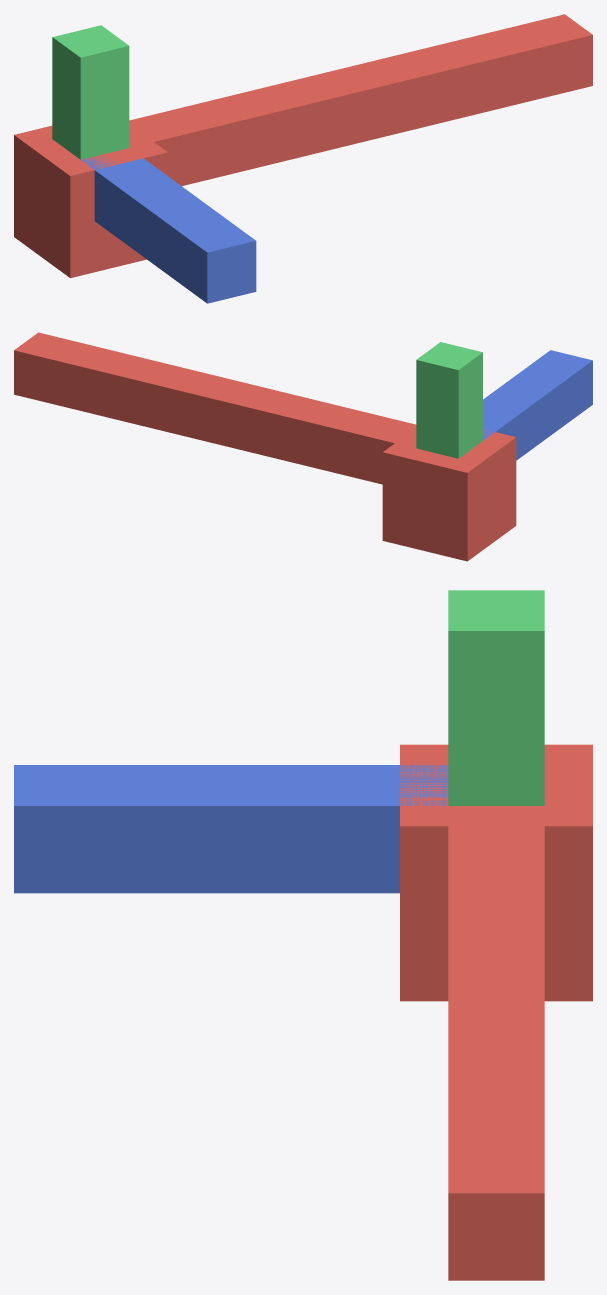
File: probe-axis-marker.glb
3 renders of one model, top to bottom at view 1: azimuth 30°, elevation 25°; view 2: azimuth 150°, elevation 25°; view 3: azimuth 270°, elevation 25°, orthographic. The views are drawn at different scales.
Visible parts, largest first — view 1: AxisPlusX_RED, AxisPlusZ_BLUE, AxisHub, AxisPlusY_GREEN; view 2: AxisPlusX_RED, AxisHub, AxisPlusZ_BLUE, AxisPlusY_GREEN; view 3: AxisPlusZ_BLUE, AxisPlusX_RED, AxisHub, AxisPlusY_GREEN.
Boxes of the visible parts, x1,y1,x2,y2 form: AxisPlusX_RED: (129,14,592,185); AxisPlusZ_BLUE: (81,156,256,303); AxisHub: (14,124,167,277); AxisPlusY_GREEN: (52,25,129,159); AxisPlusX_RED: (14,332,416,484); AxisHub: (382,429,516,561); AxisPlusZ_BLUE: (483,350,592,460); AxisPlusY_GREEN: (416,342,482,458); AxisPlusZ_BLUE: (14,765,448,893); AxisPlusX_RED: (448,806,544,1280); AxisHub: (400,744,592,1001); AxisPlusY_GREEN: (448,590,544,805).
Bounding box in the file's own units: 2.2 × 0.8 × 1.2.
